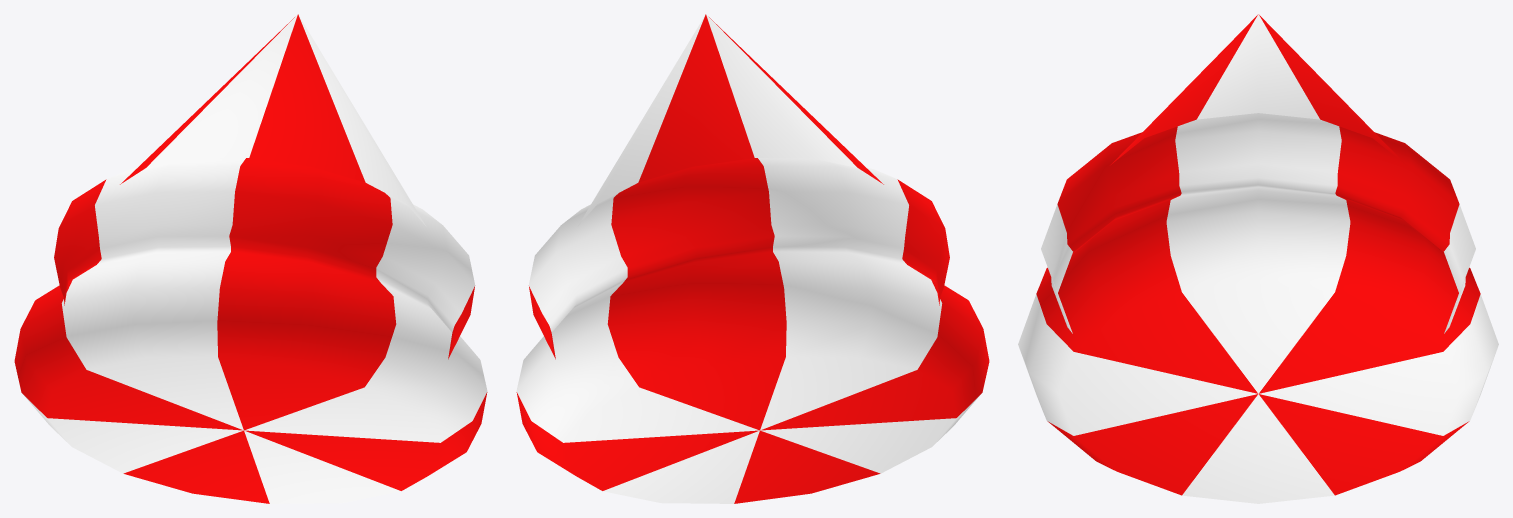
Rendered from ps2_save-icons_monkeyturnv.glb.
3 views of the same model, side by side, from view 1: azimuth 30°, elevation 25°; view 2: azimuth 150°, elevation 25°; view 3: azimuth 270°, elevation 25° (orthographic).
Parts seen in each view (by area): view 1: icon.ico; view 2: icon.ico; view 3: icon.ico.
Part boxes in pixels (x1=…): icon.ico: x1=14, y1=14, x2=487, y2=503; icon.ico: x1=516, y1=14, x2=989, y2=503; icon.ico: x1=1018, y1=14, x2=1498, y2=503.
Bounding box in the file's own units: 3.77 × 3.74 × 3.77.
1 material, 1 textured.
